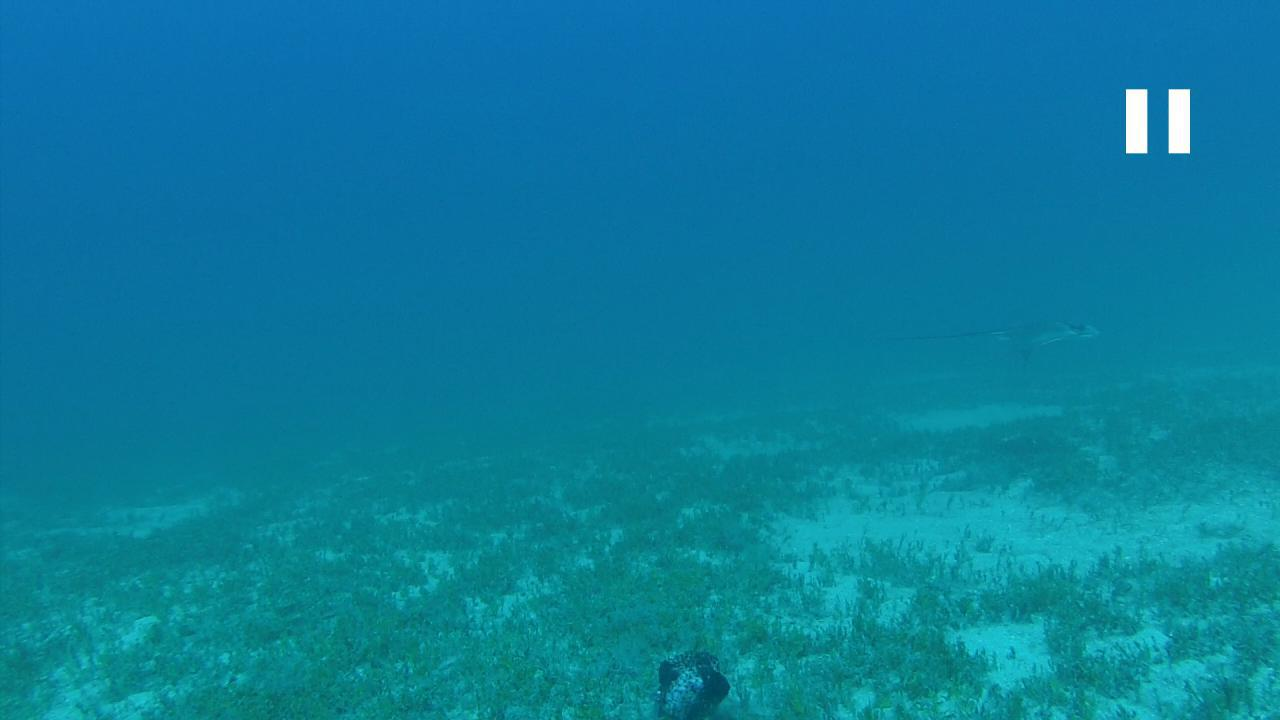dasyatis: (884, 314, 1104, 366)
